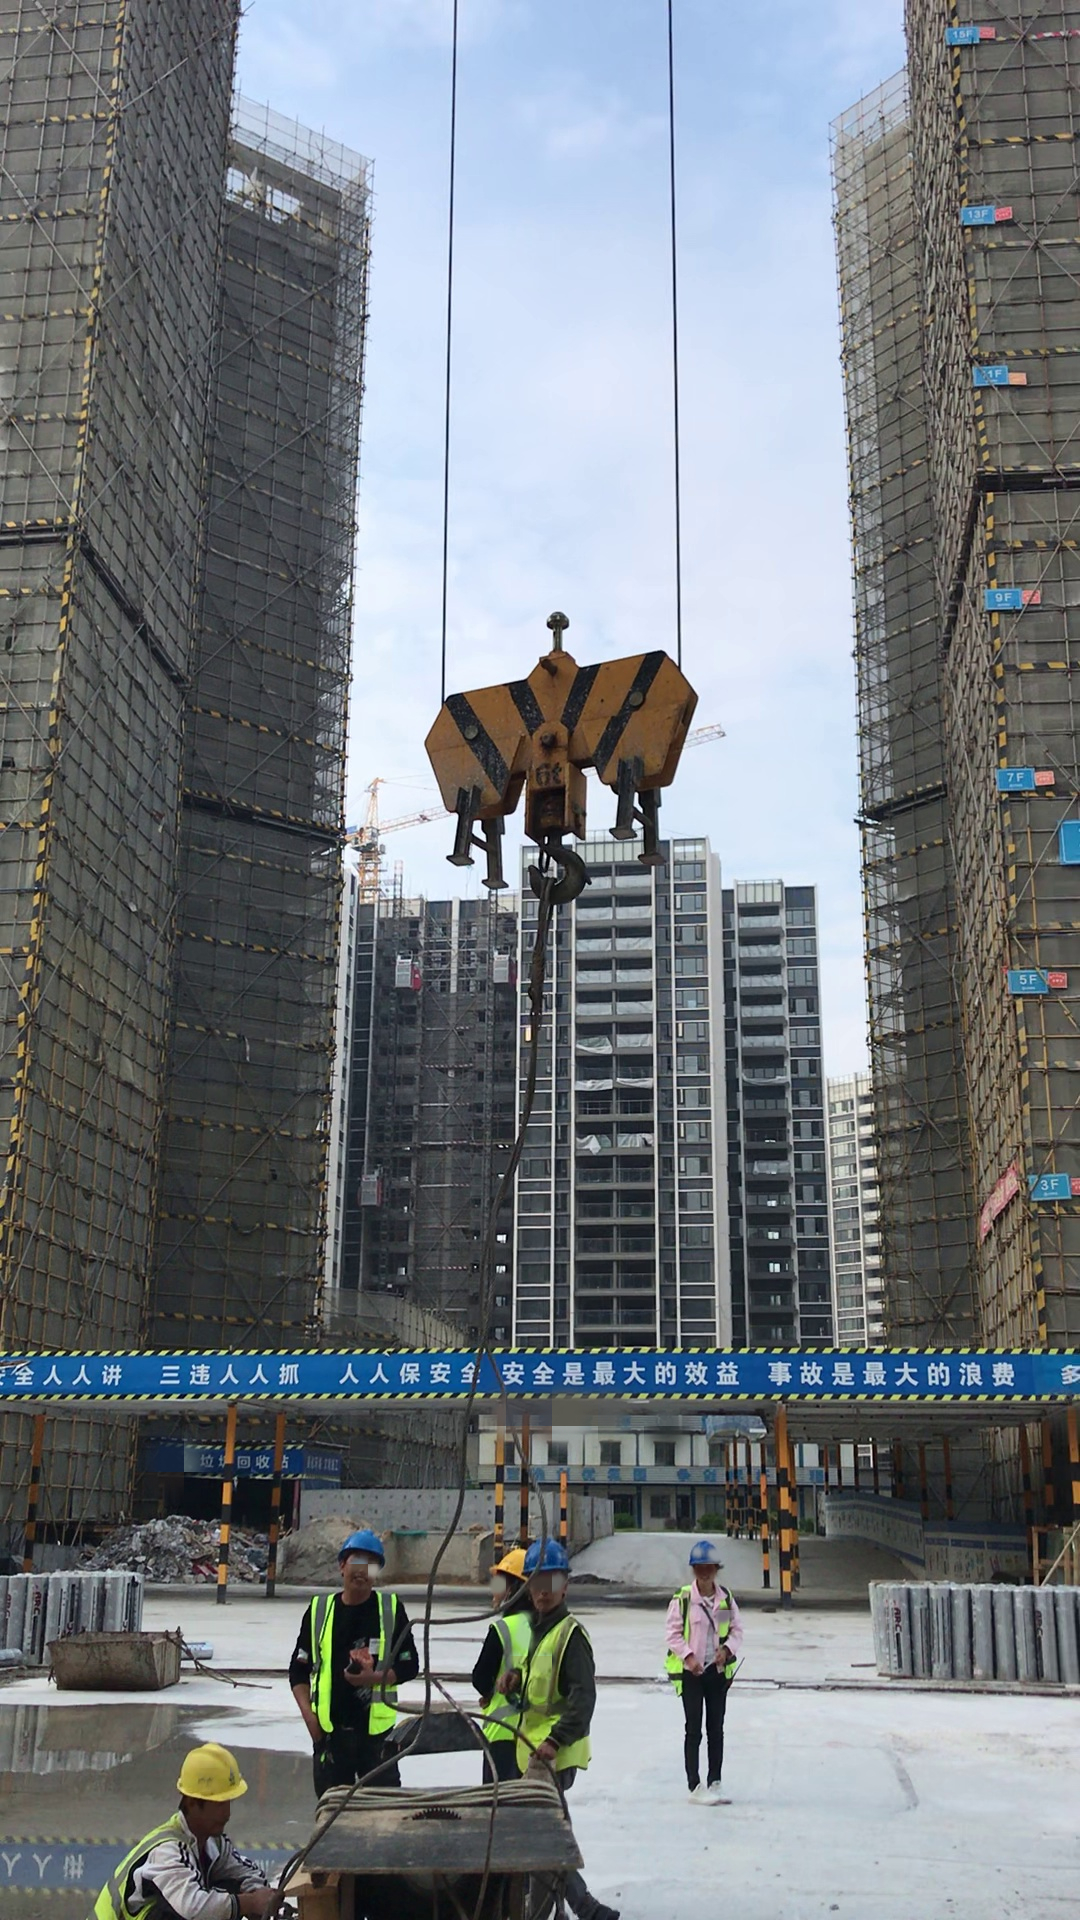cutter: (314, 1773, 565, 1920)
helmet: (161, 1743, 266, 1802), (325, 1505, 392, 1559), (686, 1522, 728, 1576), (520, 1540, 573, 1579), (492, 1529, 516, 1569)
hook: (418, 598, 711, 876)
hopper: (32, 1612, 191, 1693)
person: (95, 1730, 270, 1920), (307, 1529, 407, 1802), (673, 1536, 745, 1818), (521, 1550, 598, 1806), (485, 1547, 521, 1788)
slogan: (23, 1337, 1041, 1404)
vest: (95, 1809, 236, 1920), (313, 1586, 407, 1744), (518, 1619, 596, 1756), (485, 1609, 516, 1750)
